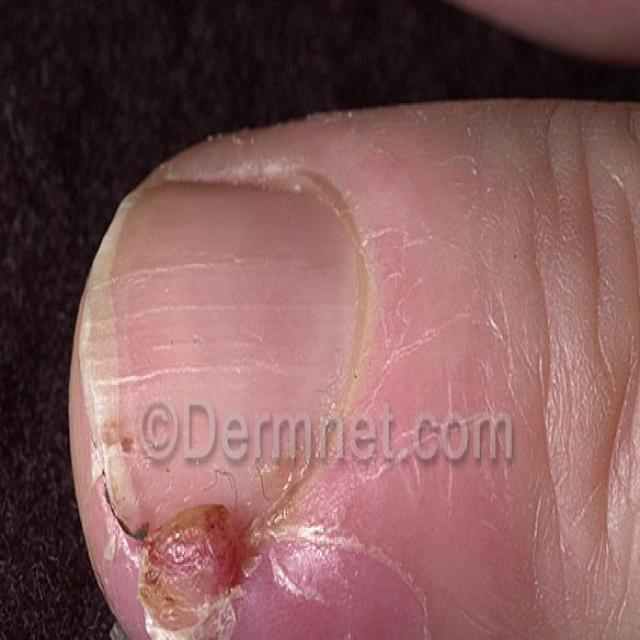Vascular Tumors: (101, 501, 280, 640)
